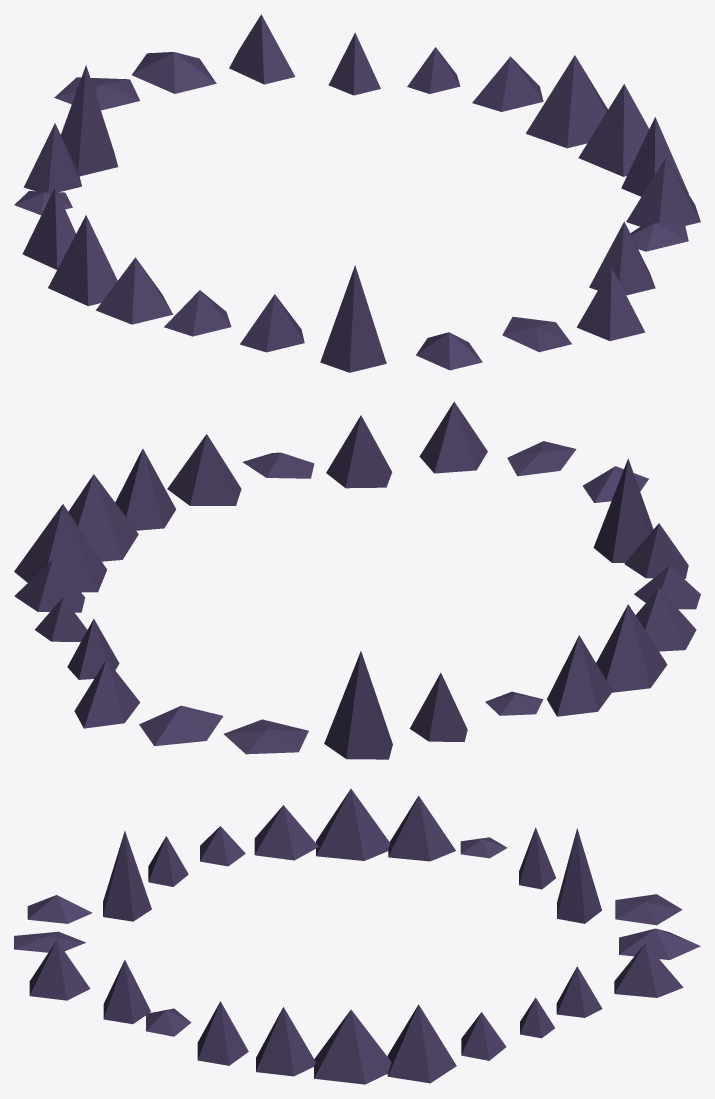
Rendered from mountain_ring.obj.
3 renders of one model, top to bottom at view 1: azimuth 30°, elevation 25°; view 2: azimuth 150°, elevation 25°; view 3: azimuth 270°, elevation 25°, orthographic. The views are drawn at different scales.
Parts seen in each view (by area): view 1: MountainRing; view 2: MountainRing; view 3: MountainRing.
Boxes of the visible parts, <box> form: MountainRing: <box>14,14,700,372</box>; MountainRing: <box>14,401,700,759</box>; MountainRing: <box>14,788,700,1084</box>.
Bounding box in the file's own units: 338 × 52.47 × 395.
